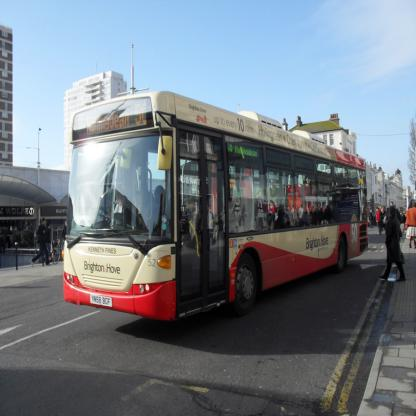Bus: (62, 90, 370, 328)
